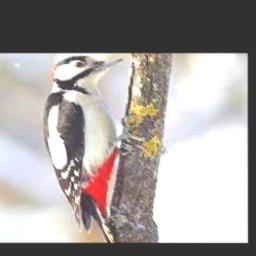Woodpecker: (42, 55, 139, 243)
